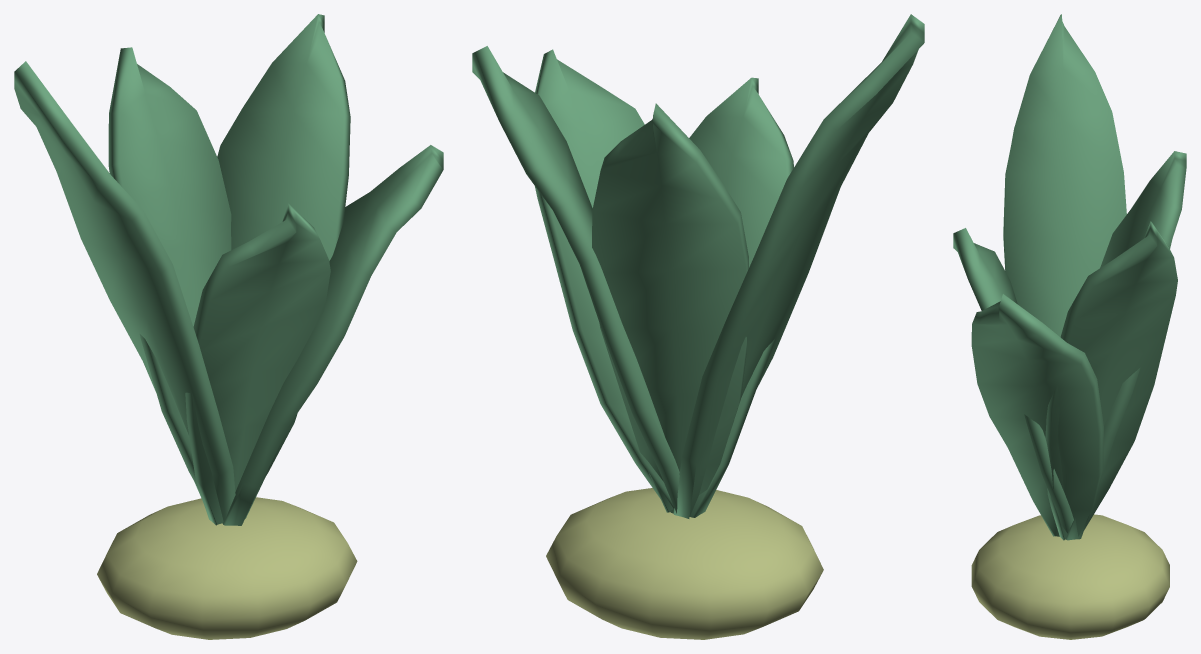
File: kelp_snack.glb
3 renders of one model, left to right at view 1: azimuth 30°, elevation 25°; view 2: azimuth 150°, elevation 25°; view 3: azimuth 270°, elevation 25°, orthographic. The views are drawn at different scales.
Parts seen in each view (by area): view 1: food_kelp_snack_painted_mesh; view 2: food_kelp_snack_painted_mesh; view 3: food_kelp_snack_painted_mesh.
Part boxes in pixels (x1,y1,x2,y2): food_kelp_snack_painted_mesh: (14, 14, 443, 639); food_kelp_snack_painted_mesh: (472, 14, 924, 639); food_kelp_snack_painted_mesh: (953, 14, 1186, 639).
Size of the model in its own units: 0.9844 by 1.46 by 0.5954.
